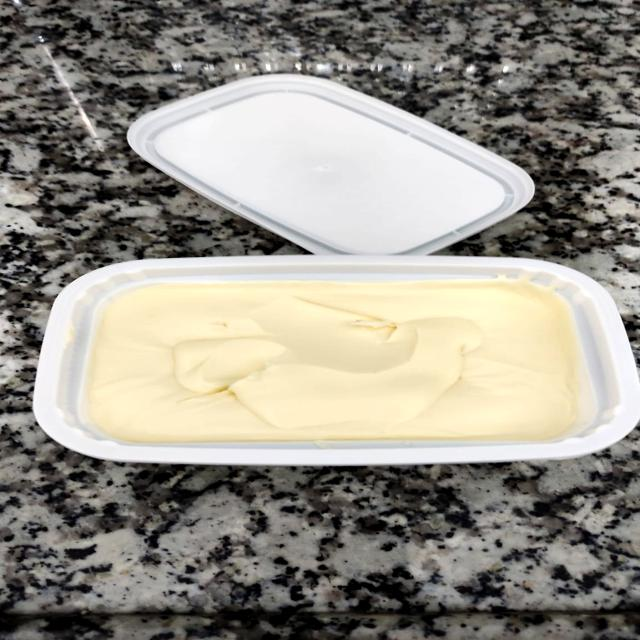margarine: (29, 253, 640, 472)
